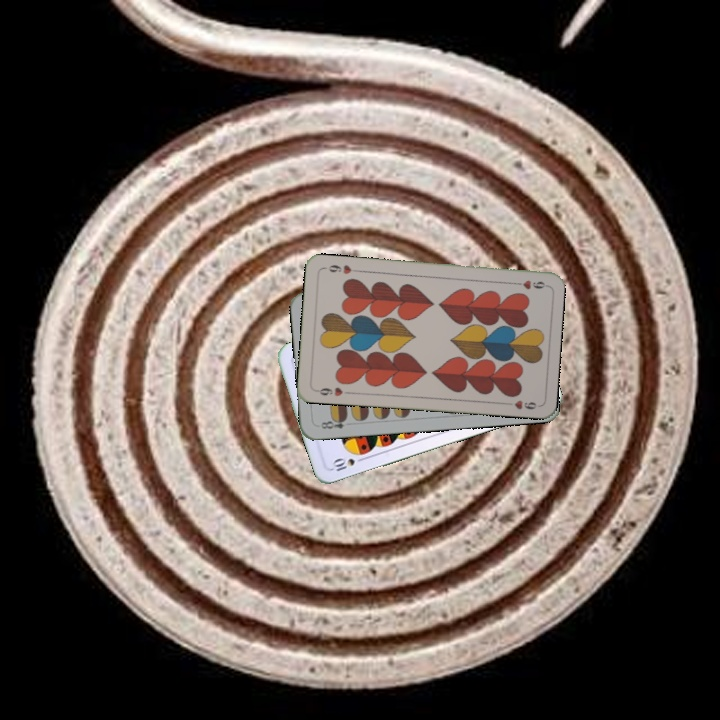E8: (317, 413, 355, 432)
H9: (508, 276, 549, 292), (311, 383, 352, 398)
S10: (328, 453, 368, 474)
